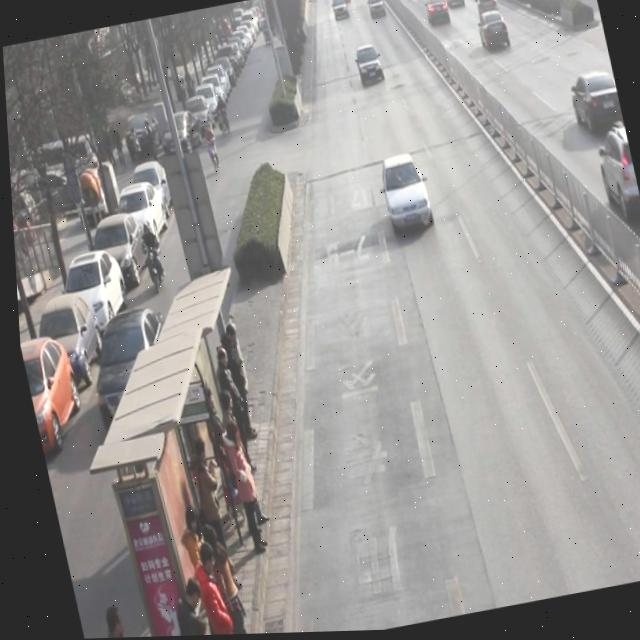car: (74, 305, 186, 451), (589, 124, 640, 227), (374, 153, 433, 235), (564, 69, 624, 140), (475, 12, 513, 58), (352, 44, 386, 92), (423, 0, 452, 31), (473, 0, 499, 18), (330, 0, 349, 24), (441, 0, 467, 16), (367, 0, 385, 20), (333, 0, 350, 6)
